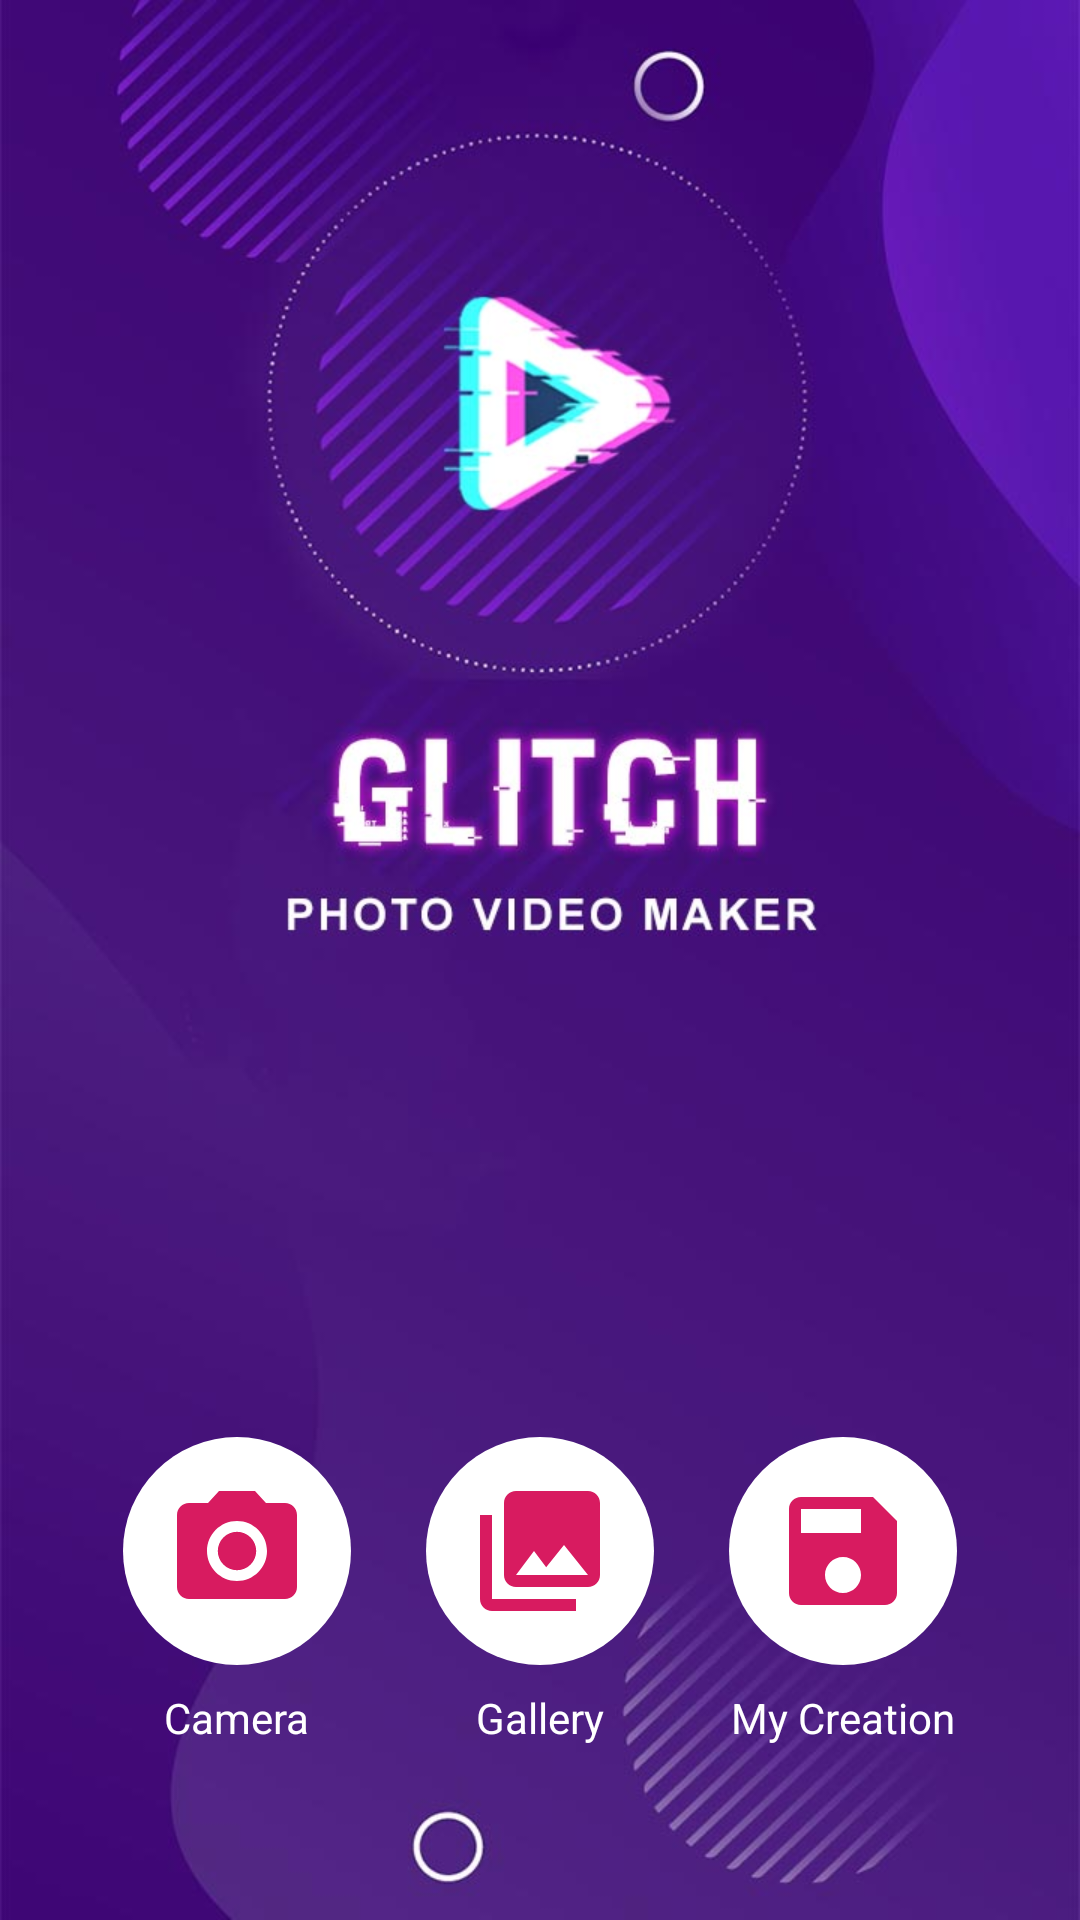

Point at icon controls on the screen. Image size 1080w x 1920h, points as point (x, y).
save: point (843, 1551)
